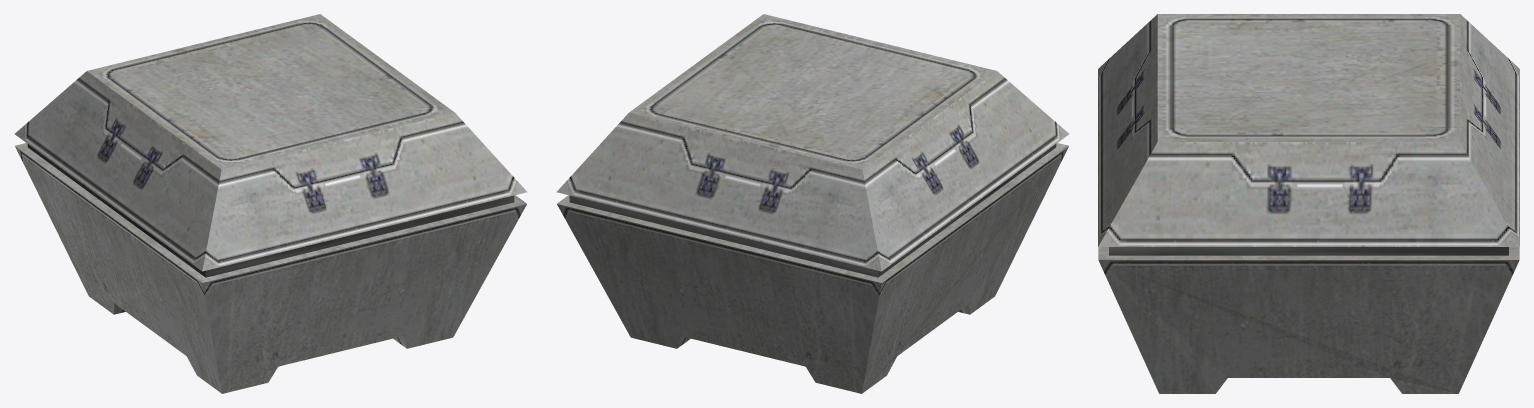
The model's file is con_gen_organic_hide_sml_l0.fbx.
The picture shows the model from 3 angles, left to right: view 1: azimuth 30°, elevation 25°; view 2: azimuth 150°, elevation 25°; view 3: azimuth 270°, elevation 25°; orthographic projection. The views are drawn at different scales.
Parts seen in each view (by area): view 1: mesh_node; view 2: mesh_node; view 3: mesh_node.
Boxes of the visible parts, <box> form: mesh_node: <box>15,14,527,393</box>; mesh_node: <box>556,14,1068,393</box>; mesh_node: <box>1098,14,1519,393</box>.
Bounding box in the file's own units: 0.4061 × 0.2686 × 0.4061.
